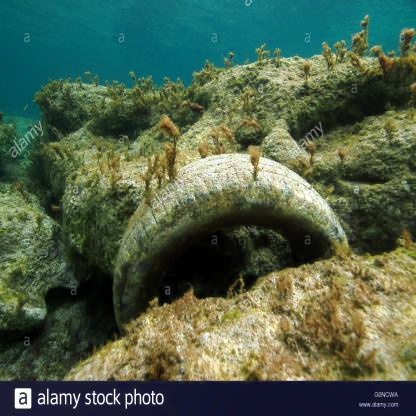tire: (101, 146, 360, 340)
